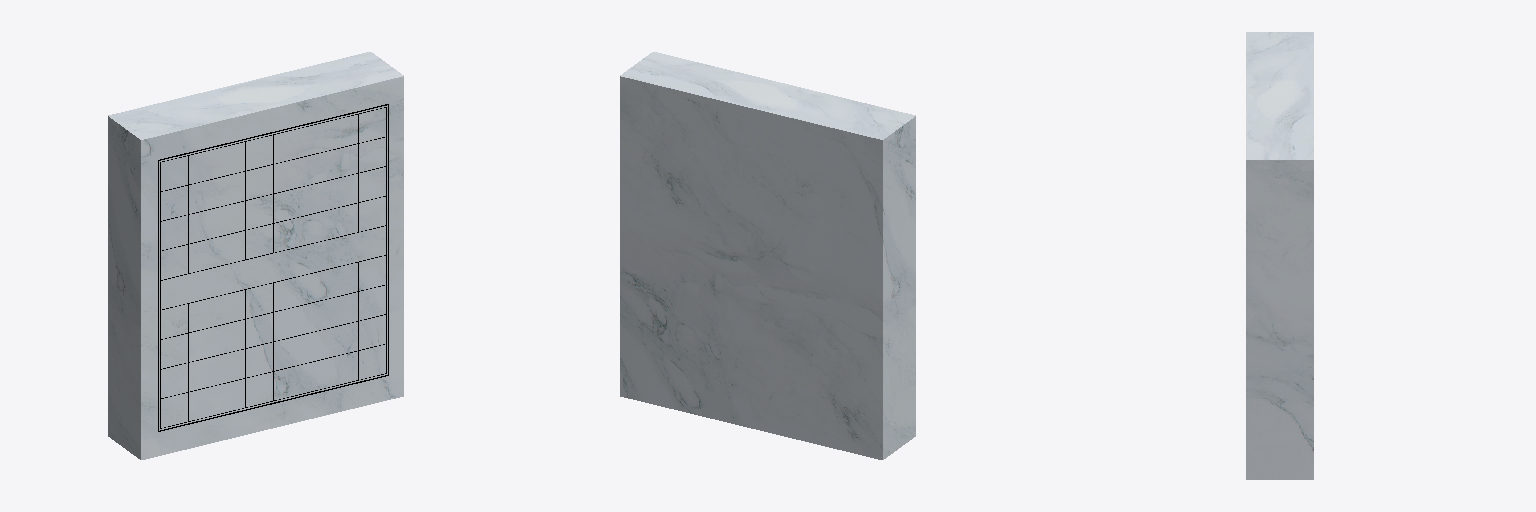
The picture shows the model from 3 angles: view 1: azimuth 30°, elevation 25°; view 2: azimuth 150°, elevation 25°; view 3: azimuth 270°, elevation 25°; orthographic projection.
Parts seen in each view (by area): view 1: Cube; view 2: Cube; view 3: Cube.
Part boxes in pixels (left/top/right/bottom): Cube: left=108, top=52, right=403, bottom=459; Cube: left=620, top=52, right=915, bottom=459; Cube: left=1246, top=32, right=1313, bottom=479.
Bounding box in the file's own units: 2 × 2.32 × 0.4423.
1 materials, 1 textured.